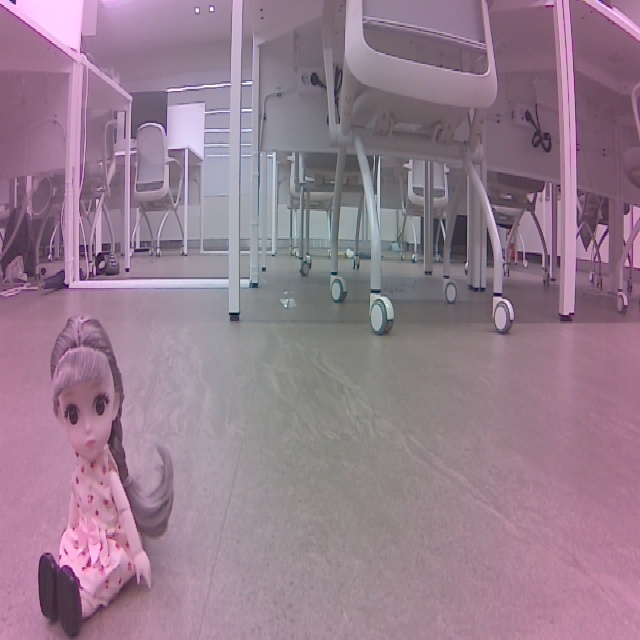장애물: (28, 312, 176, 638)
